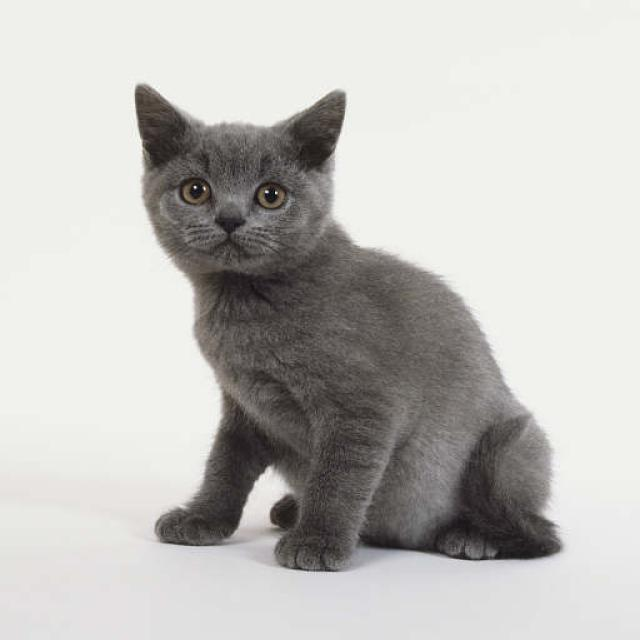British_Shorthair: (119, 76, 350, 292)
